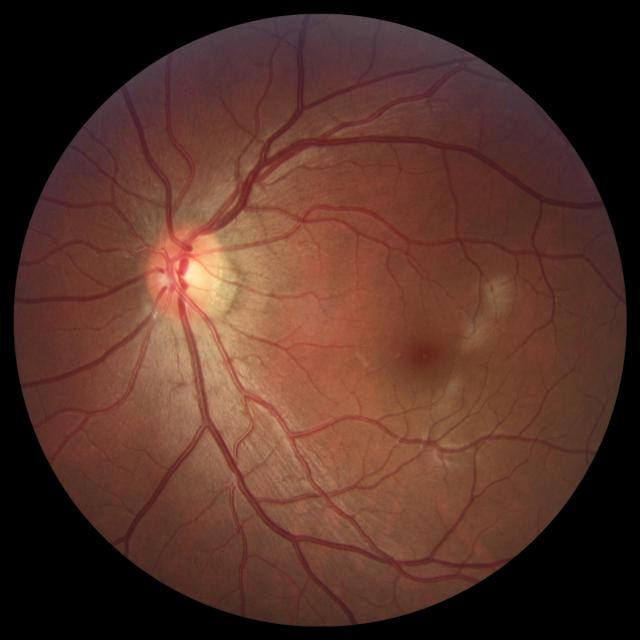OC: (162, 251, 207, 295)
OD: (144, 224, 225, 316)
